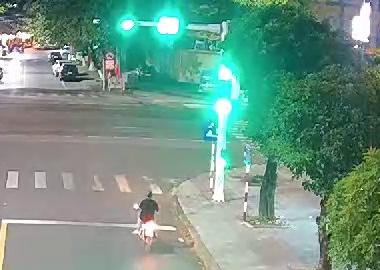green_light: (214, 59, 241, 114), (154, 10, 183, 40), (115, 13, 140, 36)
stop_line: (2, 215, 189, 233)
